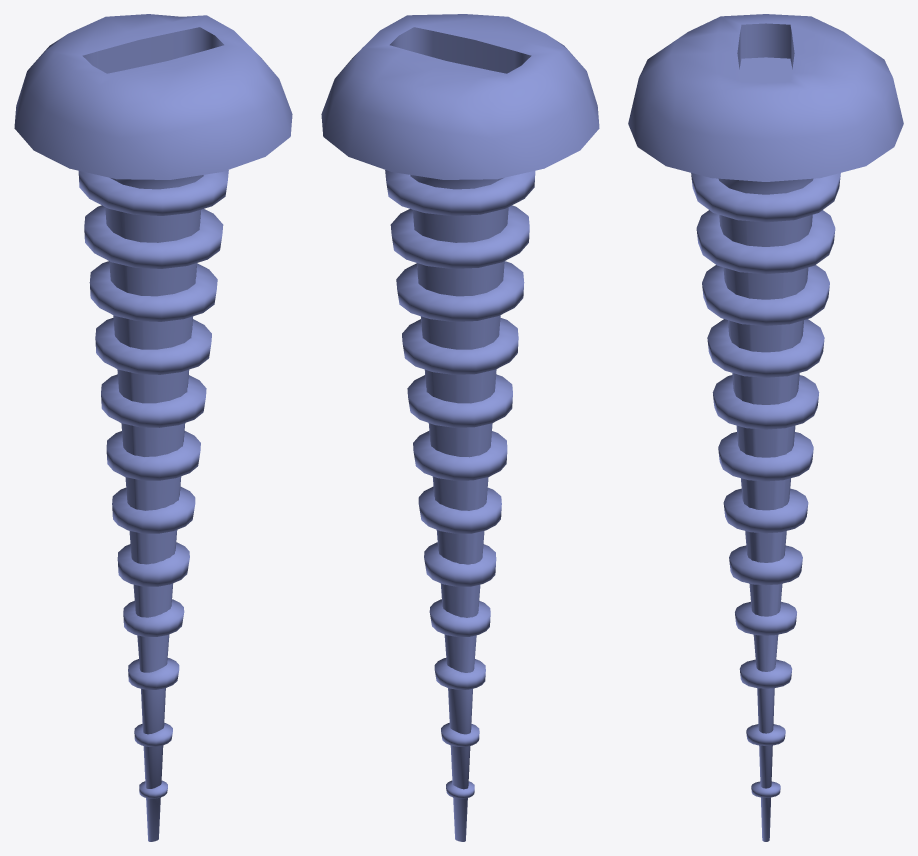
The model's file is Tornillo2x1 .fbx.
3 renders of one model, left to right at view 1: azimuth 30°, elevation 25°; view 2: azimuth 150°, elevation 25°; view 3: azimuth 270°, elevation 25°, orthographic.
Visible parts, largest first — view 1: Tornillo 2x1; view 2: Tornillo 2x1; view 3: Tornillo 2x1.
Boxes of the visible parts, x1,y1,x2,y2 form: Tornillo 2x1: [14, 14, 292, 841]; Tornillo 2x1: [321, 14, 599, 841]; Tornillo 2x1: [628, 14, 903, 841].
Bounding box in the file's own units: 168 × 529 × 168.
